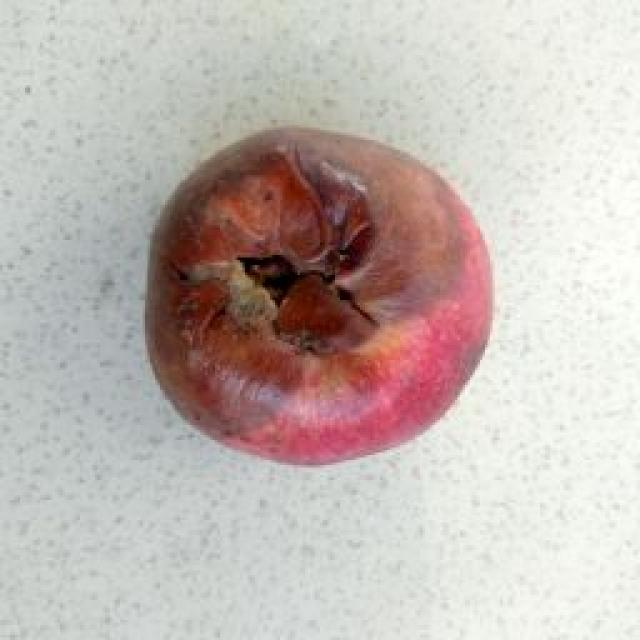Bad_Apple: (148, 128, 491, 463)
